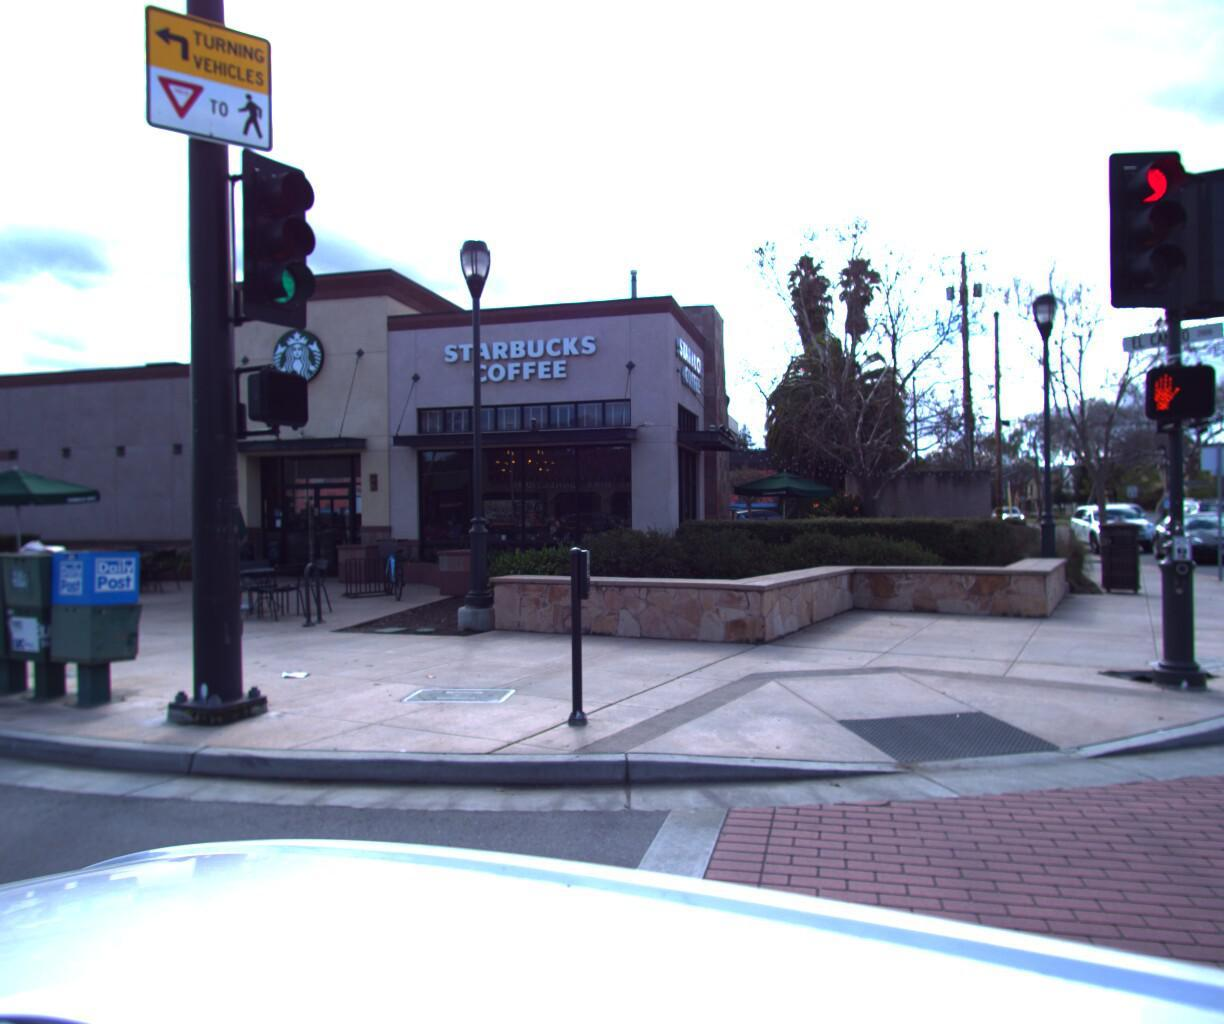car: (1063, 496, 1166, 550), (1140, 500, 1224, 558), (707, 494, 816, 537), (1158, 484, 1224, 546), (986, 503, 1026, 526)
